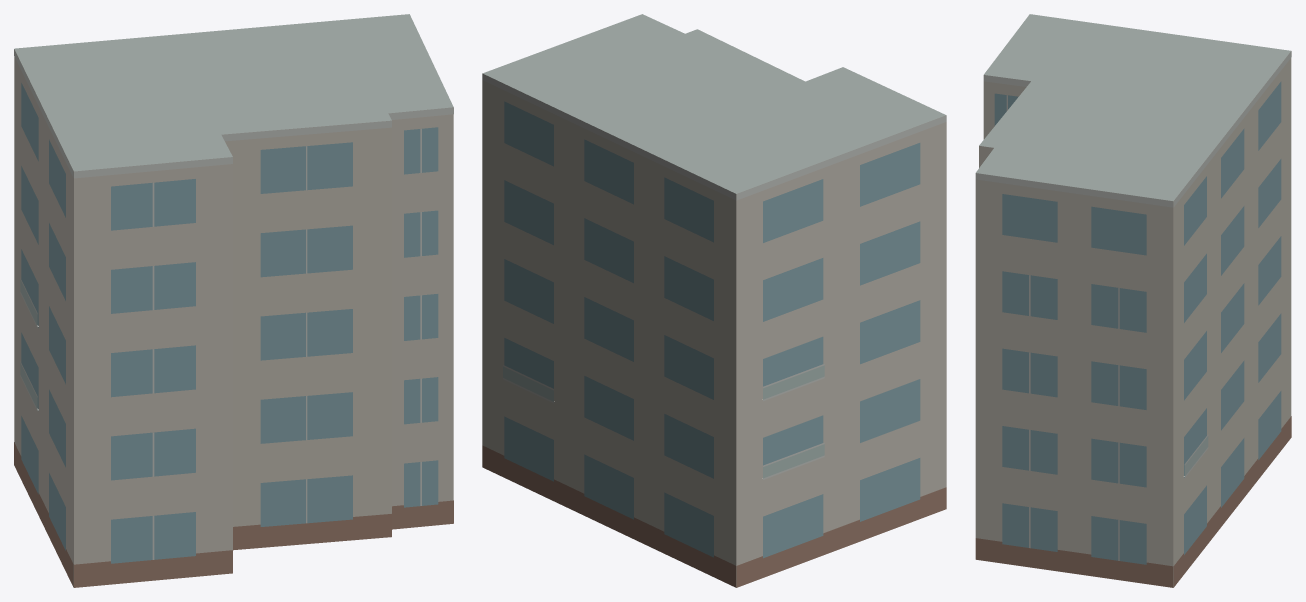
Rendered from survey-upis-32870045.glb.
3 views of the same model, side by side, from view 1: azimuth 30°, elevation 25°; view 2: azimuth 150°, elevation 25°; view 3: azimuth 270°, elevation 25° (orthographic). The views are drawn at different scales.
Visible parts, largest first — view 1: survey-upis-32870045.tmp; view 2: survey-upis-32870045.tmp; view 3: survey-upis-32870045.tmp.
Boxes of the visible parts, x1,y1,x2,y2 form: survey-upis-32870045.tmp: (14, 14, 453, 587); survey-upis-32870045.tmp: (482, 14, 946, 587); survey-upis-32870045.tmp: (975, 14, 1291, 587).
Bounding box in the file's own units: 15.07 × 14.5 × 10.75.
